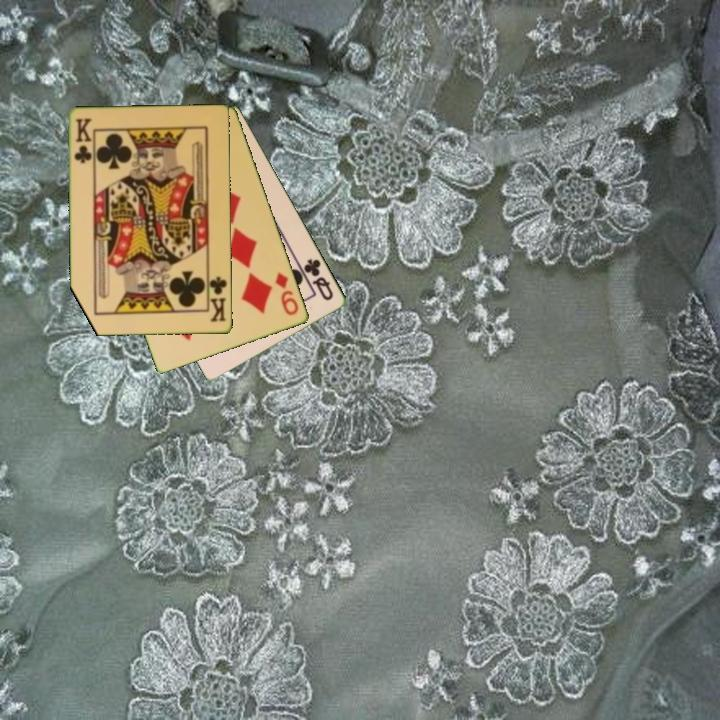9d: (272, 269, 302, 318)
Kc: (205, 271, 230, 324), (71, 115, 94, 166)
Qc: (300, 255, 337, 304)
